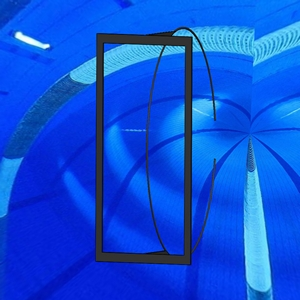circle: (92, 25, 221, 266)
